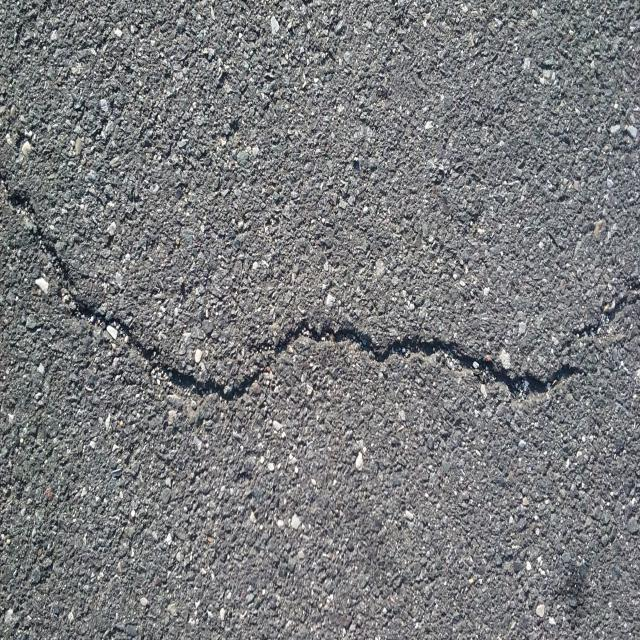Crack: (0, 185, 640, 404)
